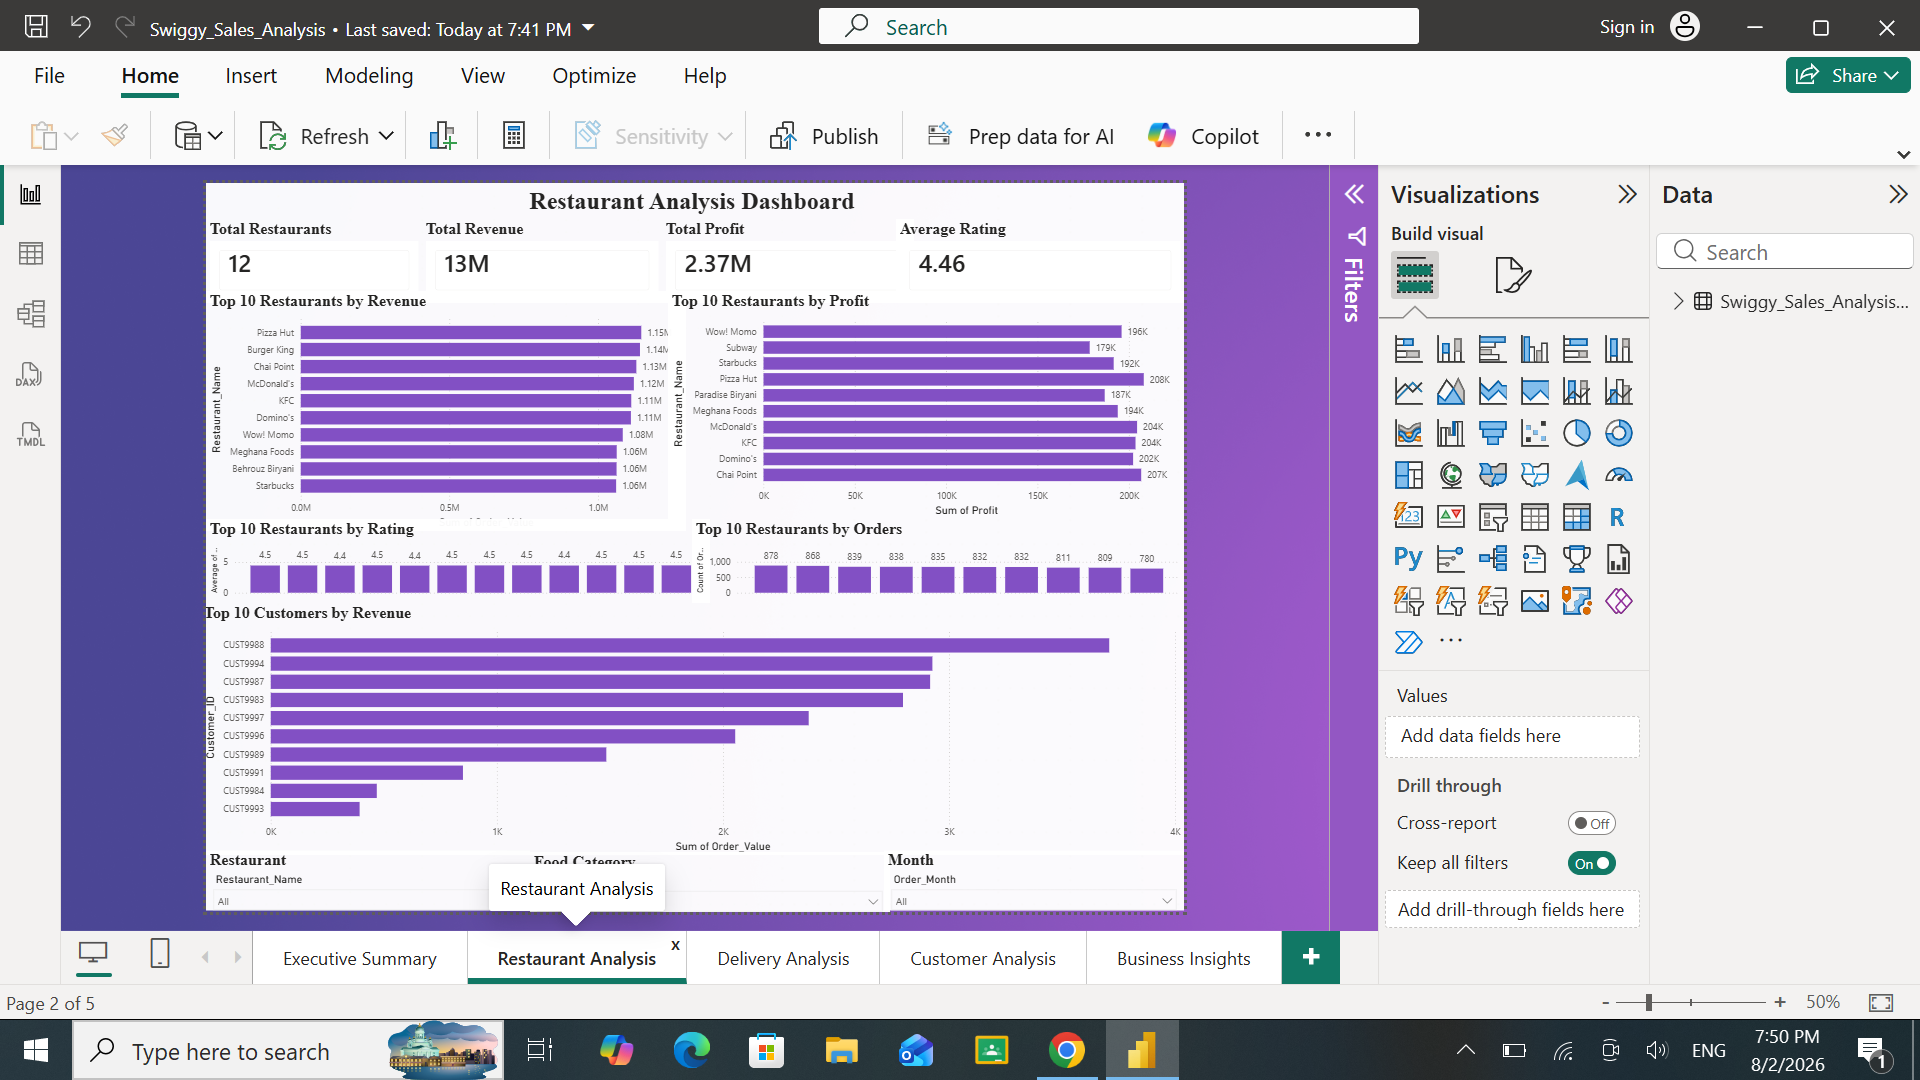

What the dashboard file says about the page in this screenshot:
{"tool":"powerbi","page":{"name":"Restaurant Analysis","canvas":[1304,972],"ordinal":1},"visuals":[{"type":"cardVisual","title":"Total Restaurants","fields":{"Data":["Count(Swiggy_Sales_Analysis_Dataset_10000.Restaurant_Name)"]},"box":[0,48,288,112],"z":0},{"type":"cardVisual","title":"Total Revenue","fields":{"Data":["Sum(Swiggy_Sales_Analysis_Dataset_10000.Order_Value)"]},"box":[288,48,320,112],"z":1000},{"type":"cardVisual","title":"Total Profit","fields":{"Data":["Sum(Swiggy_Sales_Analysis_Dataset_10000.Profit)"]},"box":[608,48,336,112],"z":2000},{"type":"cardVisual","title":"Average Rating","fields":{"Data":["Avg(Swiggy_Sales_Analysis_Dataset_10000.Customer_Rating)"]},"box":[920,48,384,112],"z":3000},{"type":"clusteredBarChart","title":"Top 10 Restaurants by Revenue","fields":{"Category":["Swiggy_Sales_Analysis_Dataset_10000.Restaurant_Name"],"Y":["Sum(Swiggy_Sales_Analysis_Dataset_10000.Order_Value)"]},"box":[0,144,640,320],"z":4000},{"type":"clusteredBarChart","title":"Top 10 Restaurants by Profit","fields":{"Category":["Swiggy_Sales_Analysis_Dataset_10000.Restaurant_Name"],"Y":["Sum(Swiggy_Sales_Analysis_Dataset_10000.Profit)"]},"box":[616,144,688,304],"z":5000},{"type":"clusteredColumnChart","title":"Top 10 Restaurants by Rating","fields":{"Category":["Swiggy_Sales_Analysis_Dataset_10000.Restaurant_Name"],"Y":["Avg(Swiggy_Sales_Analysis_Dataset_10000.Customer_Rating)"]},"box":[0,448,672,112],"z":6000},{"type":"clusteredColumnChart","title":"Top 10 Restaurants by Orders","fields":{"Category":["Swiggy_Sales_Analysis_Dataset_10000.Restaurant_Name"],"Y":["CountNonNull(Swiggy_Sales_Analysis_Dataset_10000.Order_ID)"]},"box":[648,448,656,112],"z":7000},{"type":"clusteredBarChart","title":"Top 10 Customers by Revenue","fields":{"Category":["Swiggy_Sales_Analysis_Dataset_10000.Customer_ID"],"Y":["Sum(Swiggy_Sales_Analysis_Dataset_10000.Order_Value)"]},"box":[-8,560,1312,336],"z":8000},{"type":"slicer","title":" Restaurant","fields":{"Values":["Swiggy_Sales_Analysis_Dataset_10000.Restaurant_Name"]},"box":[0,889,432,80],"z":9000},{"type":"slicer","title":"Food Category","fields":{"Values":["Swiggy_Sales_Analysis_Dataset_10000.Food_Category"]},"box":[432,892,480,80],"z":10000},{"type":"slicer","title":"Month","fields":{"Values":["Swiggy_Sales_Analysis_Dataset_10000.Order_Month"]},"box":[904,889,400,80],"z":11000},{"type":"textbox","box":[-8,0,1312,48],"z":12000}]}

Visuals, with their boxes on the page's 1304x972 design canvas (x1, y1, x2, y2). These are canvas units, not pixel positions in the 1920x1080 screenshot, which may show the page scaled, cropped or inside an application window:
"Total Restaurants" cardVisual: detection(0, 48, 288, 160)
"Total Revenue" cardVisual: detection(288, 48, 608, 160)
"Total Profit" cardVisual: detection(608, 48, 944, 160)
"Average Rating" cardVisual: detection(920, 48, 1304, 160)
"Top 10 Restaurants by Revenue" clusteredBarChart: detection(0, 144, 640, 464)
"Top 10 Restaurants by Profit" clusteredBarChart: detection(616, 144, 1304, 448)
"Top 10 Restaurants by Rating" clusteredColumnChart: detection(0, 448, 672, 560)
"Top 10 Restaurants by Orders" clusteredColumnChart: detection(648, 448, 1304, 560)
"Top 10 Customers by Revenue" clusteredBarChart: detection(-8, 560, 1304, 896)
" Restaurant" slicer: detection(0, 889, 432, 969)
"Food Category" slicer: detection(432, 892, 912, 972)
"Month" slicer: detection(904, 889, 1304, 969)
textbox: detection(-8, 0, 1304, 48)
